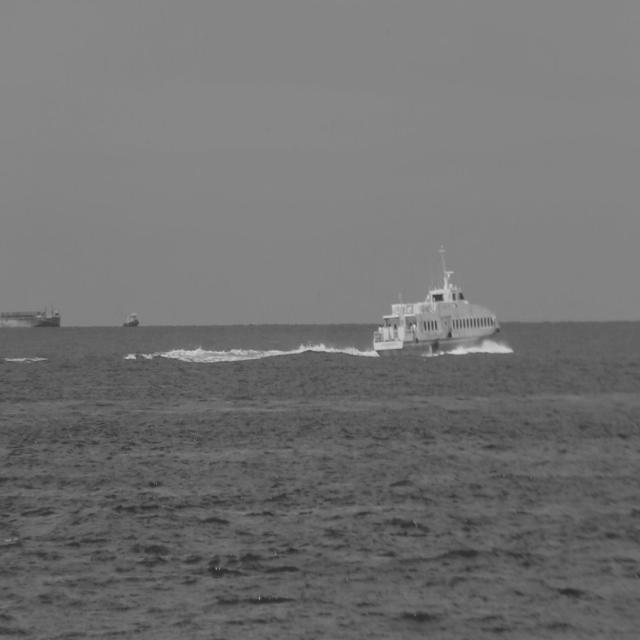ship: (371, 246, 506, 358), (1, 301, 62, 327)
